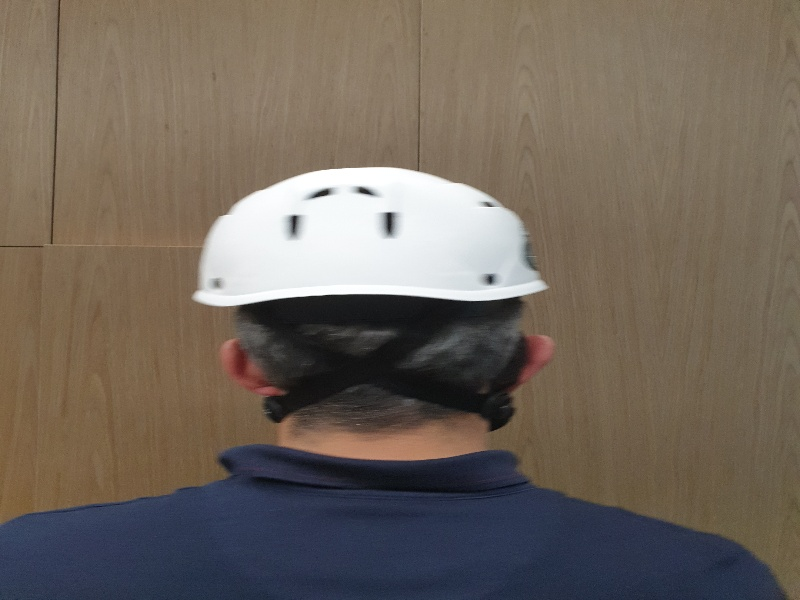Baret: (181, 163, 554, 306)
